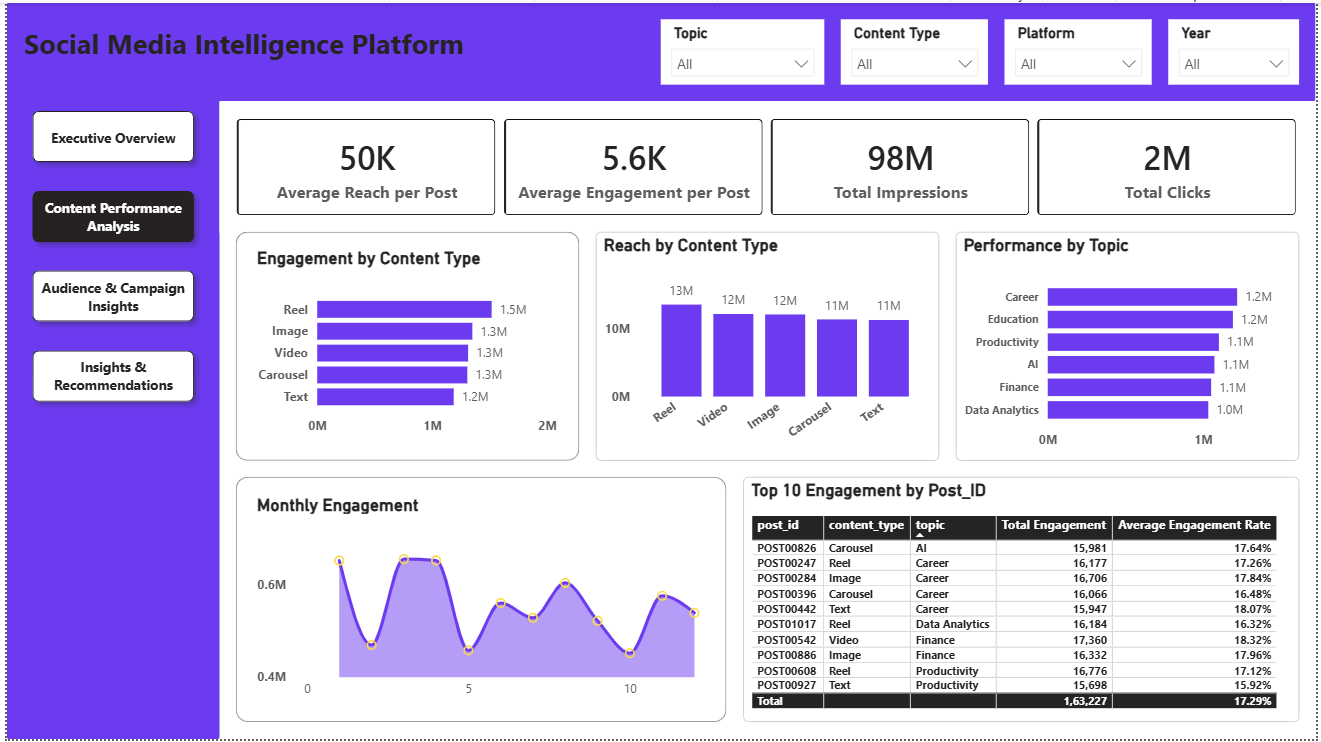

Layout of this report page (visuals, bound fields, positions):
{"tool":"powerbi","page":{"name":"Content Performance Analysis","canvas":[1280,720],"ordinal":1},"visuals":[{"type":"shape","box":[0,0,208,720],"z":0},{"type":"shape","box":[576,224,336,224],"z":1000},{"type":"shape","box":[224,464,480,240],"z":2000},{"type":"shape","box":[720,464,544,240],"z":3000},{"type":"shape","box":[928,224,336,224],"z":4000},{"type":"cardVisual","fields":{"Data":["_Measures.Average Reach per Post","_Measures.Average Engagement per Post","_Measures.Total Impressions","_Measures.Total Clicks"]},"box":[208,96,1072,128],"z":5000},{"type":"clusteredBarChart","title":"Performance by Topic","fields":{"Category":["Fact_content_performance.topic"],"Y":["_Measures.Total Engagement"]},"box":[928,224,336,224],"z":6000},{"type":"areaChart","title":"Monthly Engagement","fields":{"Category":["Dim_Date.Month Number"],"Y":["_Measures.Total Engagement"]},"box":[240,480,448,208],"z":7000},{"type":"shape","box":[224,224,336,224],"z":8000},{"type":"columnChart","title":"Reach by Content Type","fields":{"Category":["Fact_content_performance.content_type"],"Y":["_Measures.Total Reach"]},"box":[576,224,336,224],"z":9000},{"type":"shape","box":[0,0,1280,96],"z":10000},{"type":"textbox","box":[0,16,464,64],"z":11000},{"type":"slicer","fields":{"Values":["Dim_Date.Year"]},"box":[1136,16,128,64],"z":12000},{"type":"slicer","fields":{"Values":["Fact_content_performance.platform"]},"box":[976,16,144,64],"z":13000},{"type":"clusteredBarChart","title":"Engagement by Content Type","fields":{"Category":["Fact_content_performance.content_type"],"Y":["_Measures.Total Engagement"]},"box":[240,240,304,192],"z":14000},{"type":"tableEx","title":"Top 10 Engagement by Post_ID","fields":{"Values":["Fact_content_performance.post_id","Fact_content_performance.content_type","Fact_content_performance.topic","_Measures.Total Engagement","_Measures.Average Engagement Rate"]},"box":[720,464,544,240],"z":15000},{"type":"slicer","fields":{"Values":["Fact_content_performance.content_type"]},"box":[816,16,144,64],"z":16000},{"type":"slicer","fields":{"Values":["Fact_content_performance.topic"]},"box":[640,16,160,64],"z":17000},{"type":"pageNavigator","box":[16,96,176,304],"z":18000}]}

Visuals, with their boxes in screenshot pixels (x1, y1, x2, y2), scaled from the page's 1280x720 canvas onto the 1321x742 screenshot:
shape: region(0, 0, 215, 741)
shape: region(594, 231, 941, 462)
shape: region(231, 478, 727, 726)
shape: region(743, 478, 1304, 726)
shape: region(958, 231, 1304, 462)
cardVisual - _Measures.Average Reach per Post x _Measures.Average Engagement per Post: region(215, 99, 1320, 231)
"Performance by Topic" clusteredBarChart: region(958, 231, 1304, 462)
"Monthly Engagement" areaChart: region(248, 495, 710, 709)
shape: region(231, 231, 578, 462)
"Reach by Content Type" columnChart: region(594, 231, 941, 462)
shape: region(0, 0, 1320, 99)
textbox: region(0, 16, 479, 82)
slicer - Dim_Date.Year: region(1172, 16, 1304, 82)
slicer - Fact_content_performance.platform: region(1007, 16, 1156, 82)
"Engagement by Content Type" clusteredBarChart: region(248, 247, 561, 445)
"Top 10 Engagement by Post_ID" tableEx: region(743, 478, 1304, 726)
slicer - Fact_content_performance.content_type: region(842, 16, 991, 82)
slicer - Fact_content_performance.topic: region(660, 16, 826, 82)
pageNavigator: region(17, 99, 198, 412)
